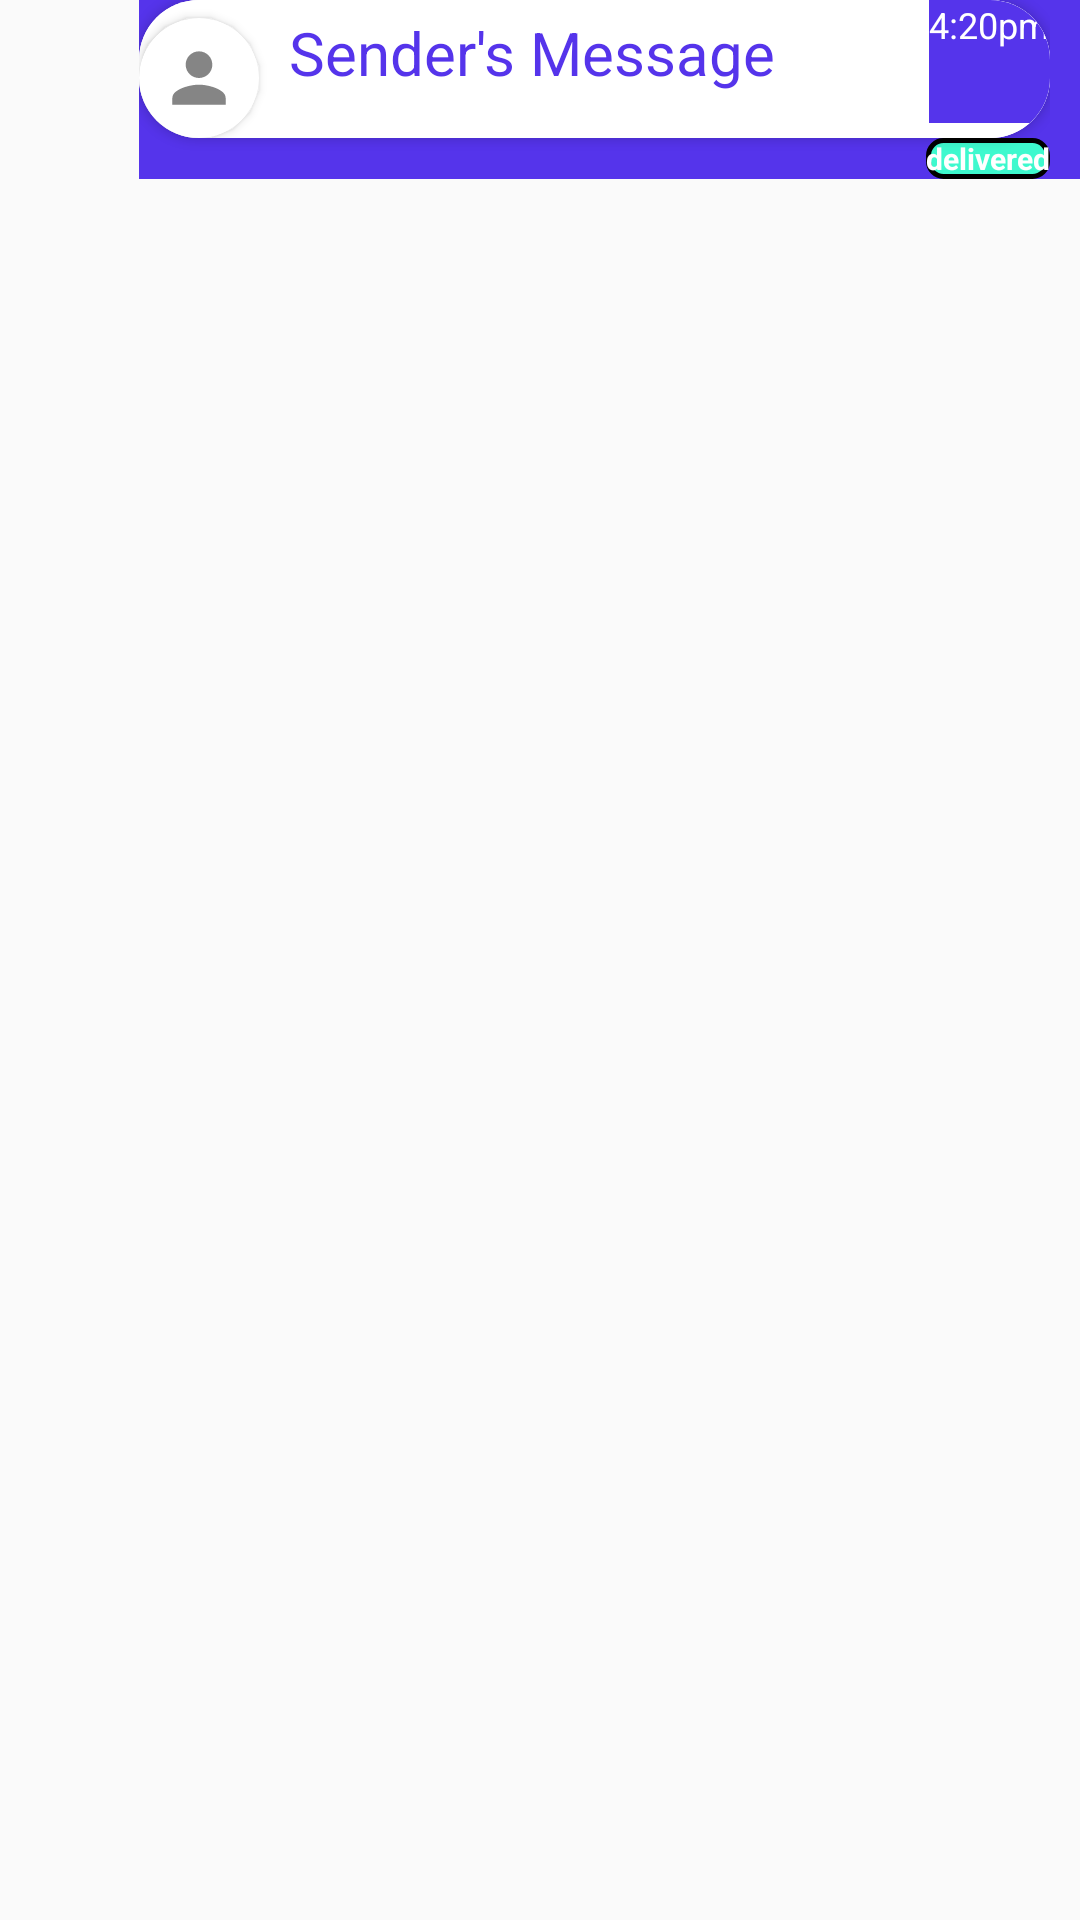

Icons on this 1080px×1920px Android screen, each with its box as (x1, y1, x2, y2):
person: (143, 19, 226, 105)
